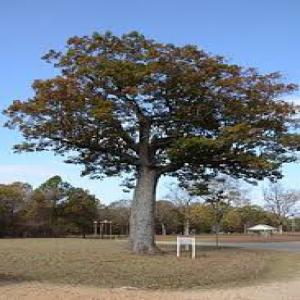Tree: (8, 23, 295, 255)
